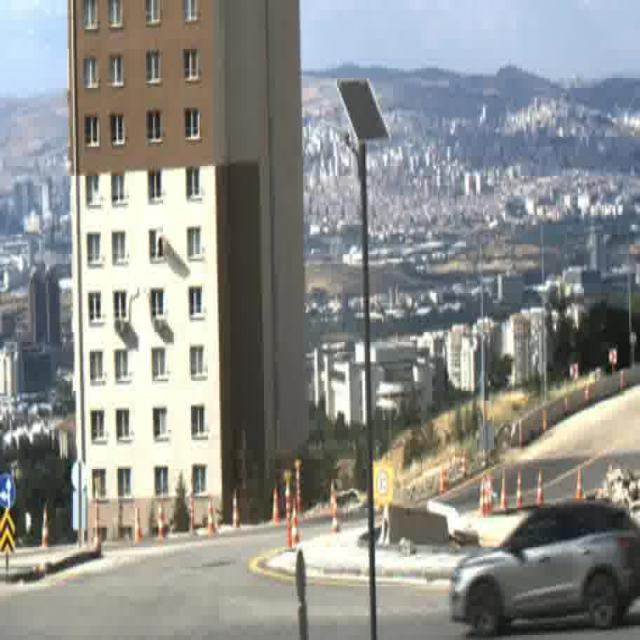Car: (447, 496, 640, 640)
